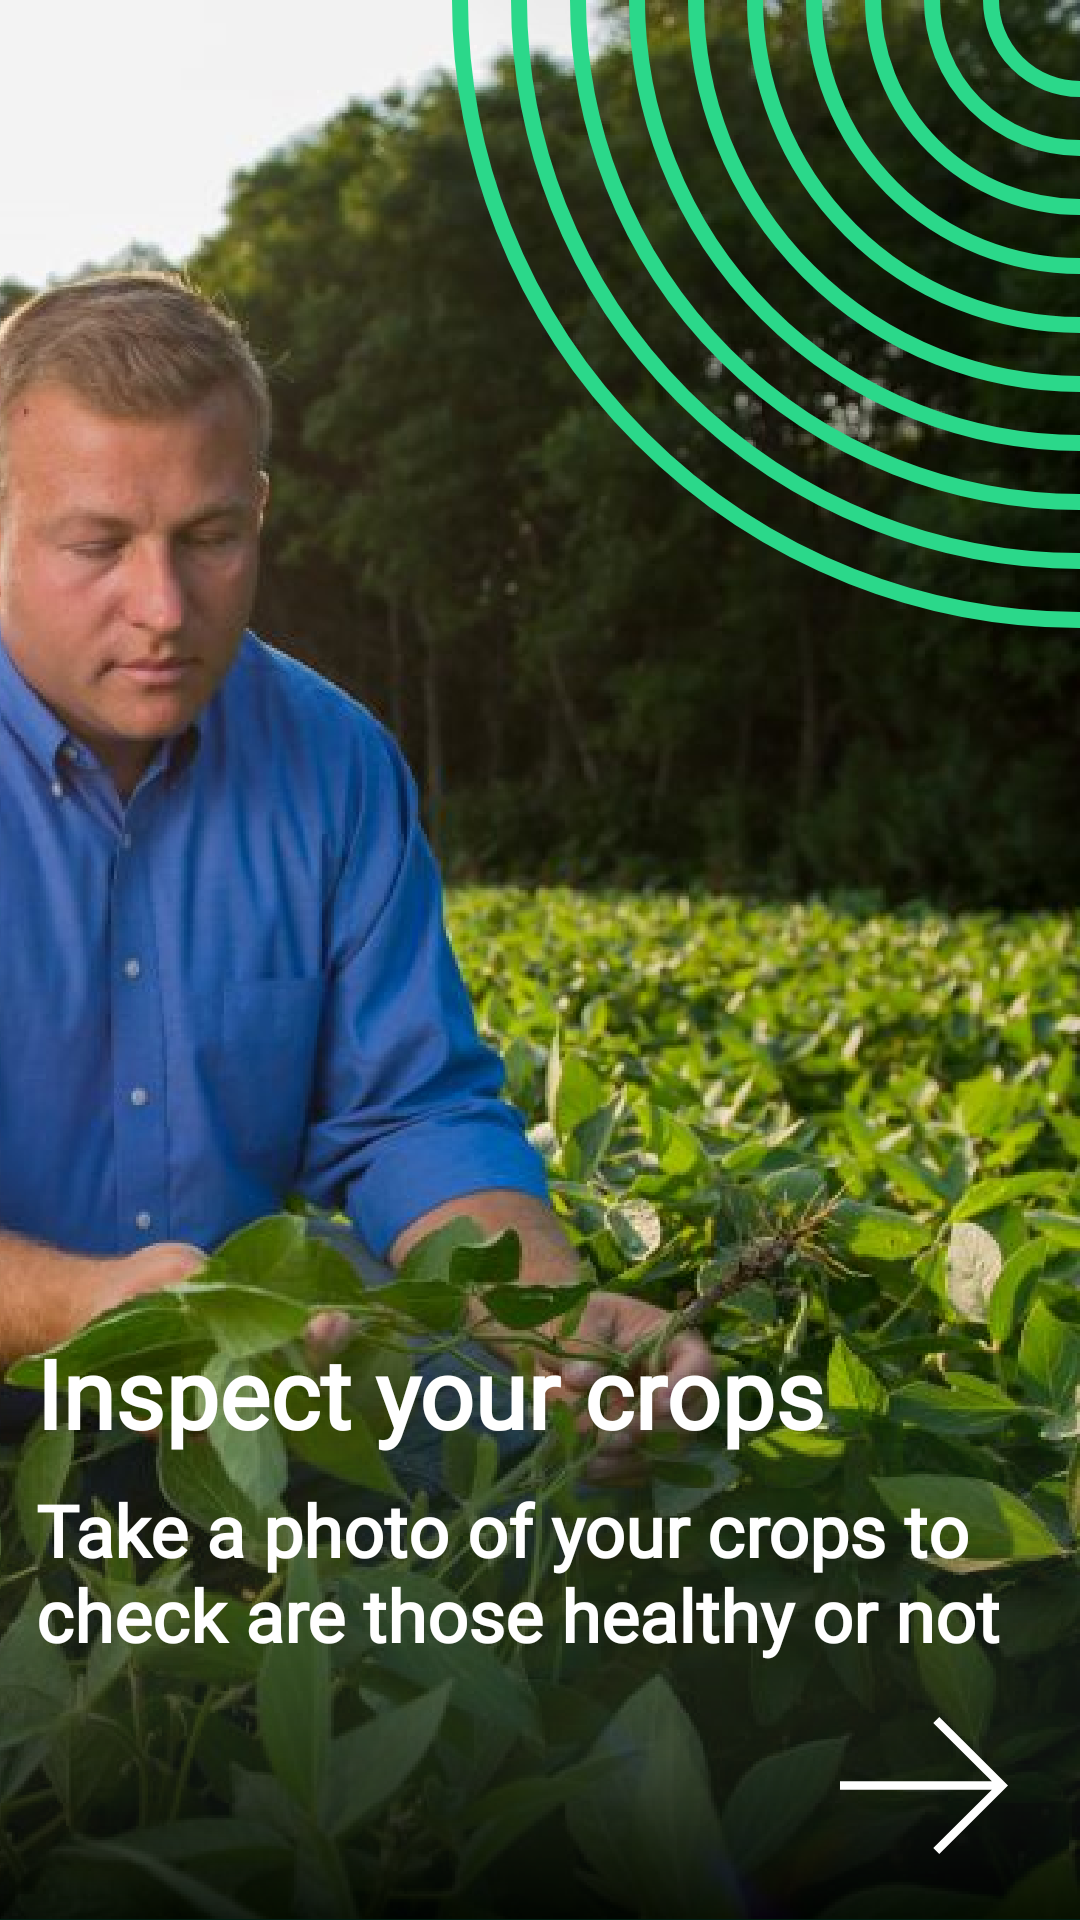

Named icons in this screenshot (1080px x 1920px) and their centers, (x=x, y=y):
planter arrow: (x=909, y=1781)
